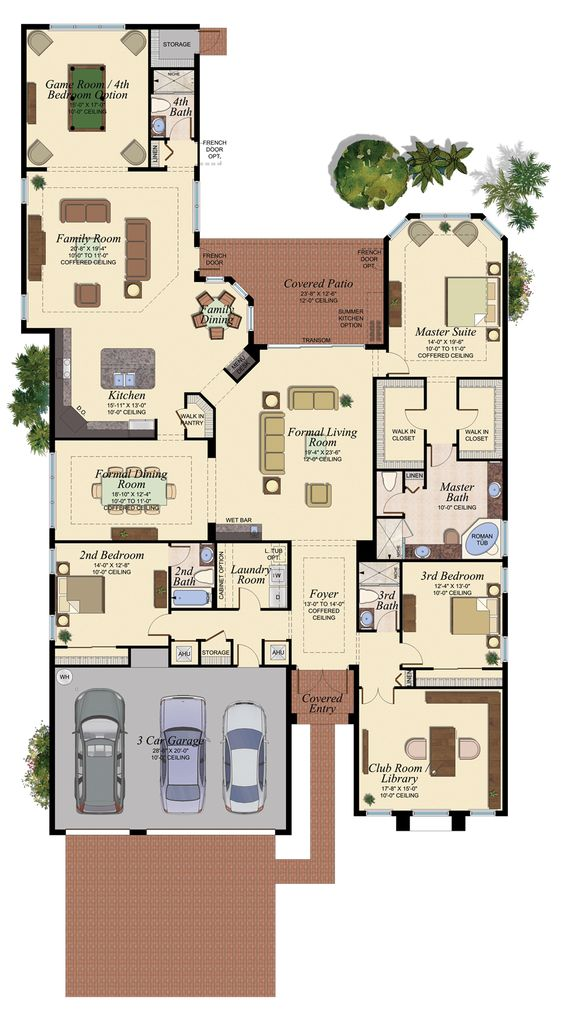door: (360, 690, 399, 710), (429, 448, 454, 471), (407, 641, 429, 666), (143, 615, 164, 637), (235, 642, 258, 662), (237, 586, 260, 605), (403, 403, 420, 428), (173, 545, 194, 564), (463, 406, 481, 428), (379, 609, 398, 628)
room: (19, 167, 256, 346), (205, 342, 379, 545), (382, 211, 509, 380), (352, 684, 509, 817), (47, 325, 217, 441), (20, 23, 151, 173), (47, 437, 216, 542), (47, 538, 172, 648), (370, 467, 509, 564), (398, 557, 510, 671), (214, 539, 292, 612), (370, 375, 428, 471), (454, 374, 510, 463), (147, 66, 201, 142), (168, 537, 217, 612), (355, 558, 404, 632), (147, 23, 201, 71)
